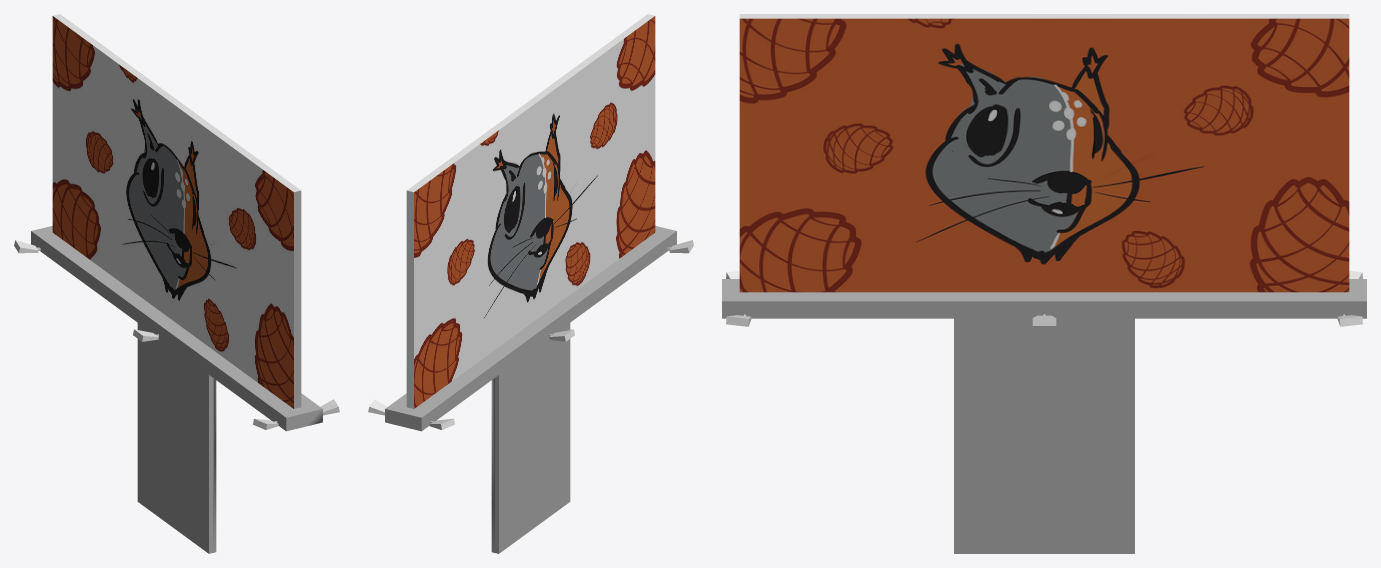
File: Billboard.FBX
3 renders of one model, left to right at view 1: azimuth 30°, elevation 25°; view 2: azimuth 150°, elevation 25°; view 3: azimuth 270°, elevation 25°, orthographic. The views are drawn at different scales.
Visible parts, largest first — view 1: Billboard; view 2: Billboard; view 3: Billboard.
Part boxes in pixels (bbox=[...]): Billboard: bbox=[14, 14, 339, 553]; Billboard: bbox=[368, 14, 693, 553]; Billboard: bbox=[722, 14, 1366, 553].
Bounding box in the file's own units: 209 × 1032 × 1126.
